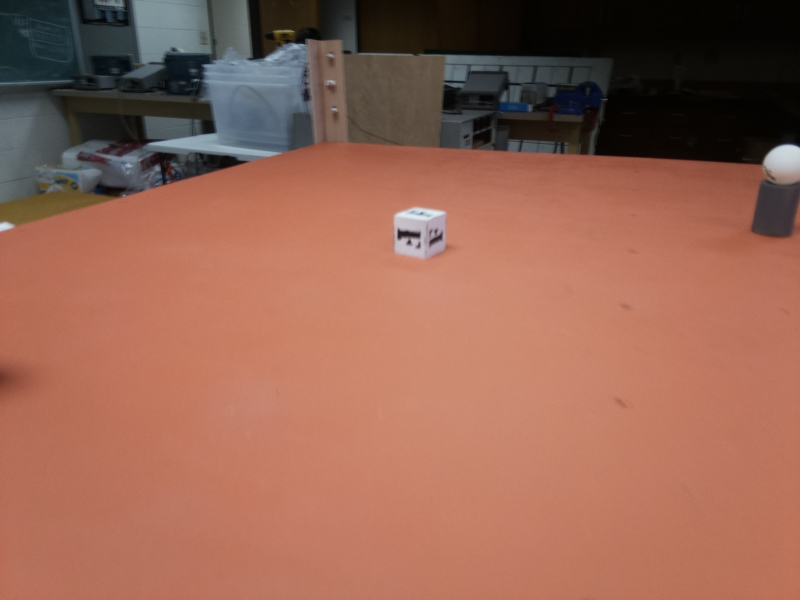blockF: (392, 207, 451, 267)
corner: (308, 38, 350, 145)
obstacle: (754, 146, 800, 236)
